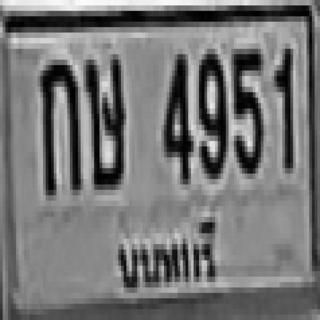A01: (38, 57, 78, 192)
A39: (83, 49, 124, 184)
N01: (272, 43, 290, 168)
N04: (162, 49, 191, 179)
N05: (231, 43, 261, 174)
N09: (196, 49, 226, 174)
P37: (112, 210, 223, 295)
